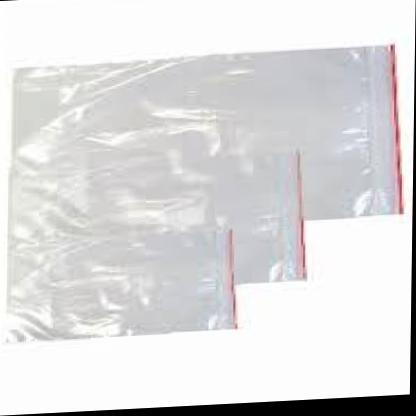Plastic: (0, 37, 406, 253), (0, 140, 325, 311), (0, 222, 258, 349)
